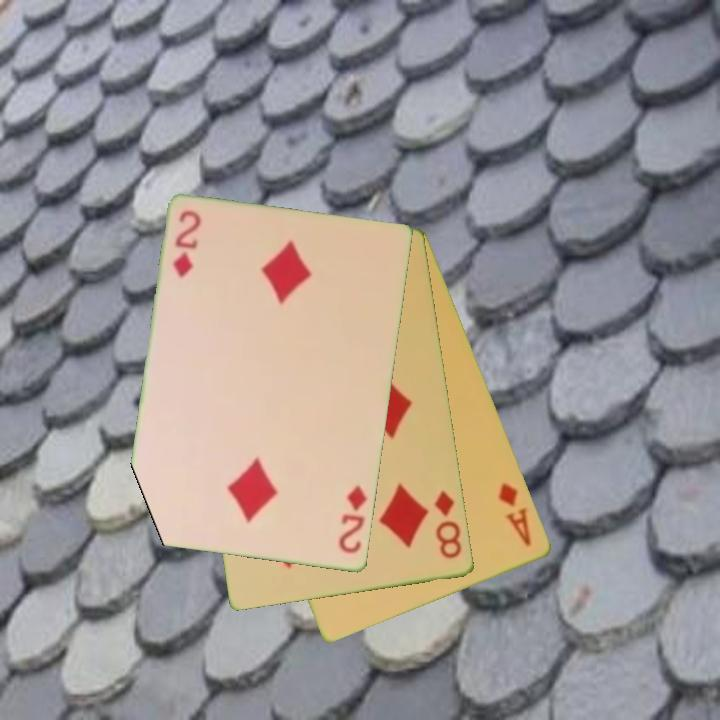2d: (335, 482, 371, 557), (170, 207, 204, 281)
8d: (431, 487, 465, 562)
Ad: (495, 479, 535, 550)
